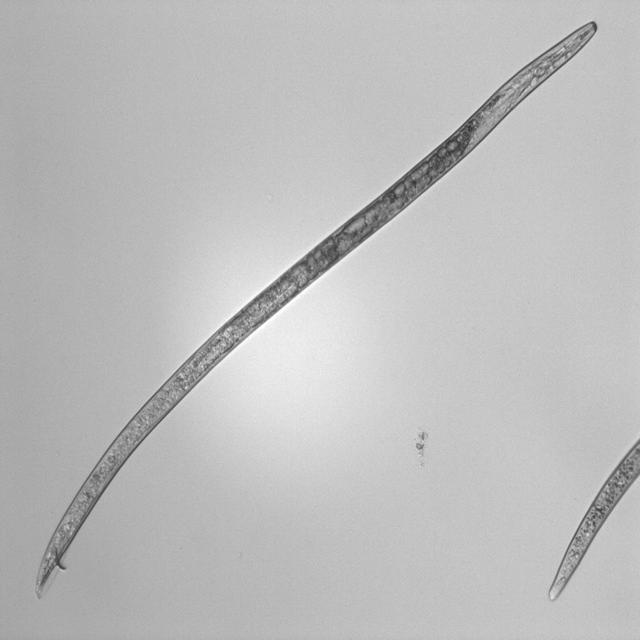Pratylenchus: (30, 18, 603, 606)
